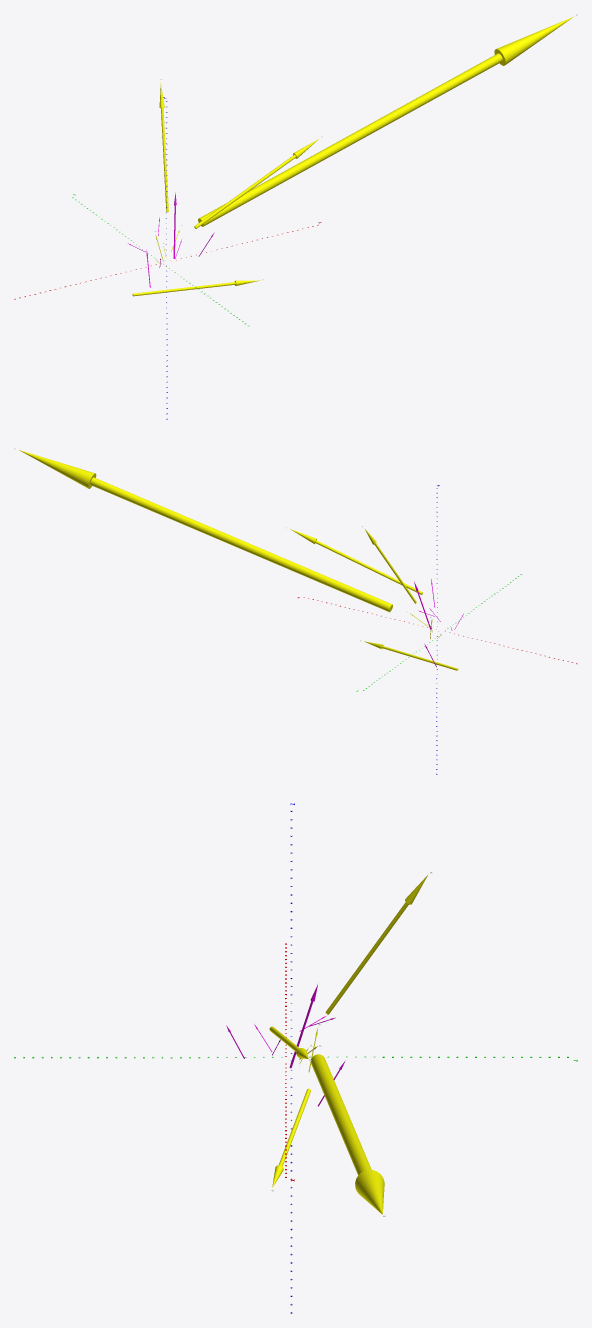
The model's file is campo_vectores.glb.
The picture shows the model from 3 angles, top to bottom: view 1: azimuth 30°, elevation 25°; view 2: azimuth 150°, elevation 25°; view 3: azimuth 270°, elevation 25°; orthographic projection. The views are drawn at different scales.
Parts seen in each view (by area): view 1: F_8, F_7; view 2: F_8, F_7; view 3: F_8, F_6.
Part boxes in pixels (x1,y1,x2,y2): F_8: [198, 16, 573, 226]; F_7: [194, 139, 318, 228]; F_8: [19, 450, 392, 612]; F_7: [290, 529, 422, 594]; F_8: [311, 1054, 384, 1214]; F_6: [325, 875, 427, 1014].
Bounding box in the file's own units: 118 × 60.74 × 61.18.
